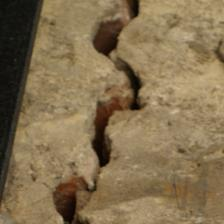Crack: (54, 3, 152, 221)
